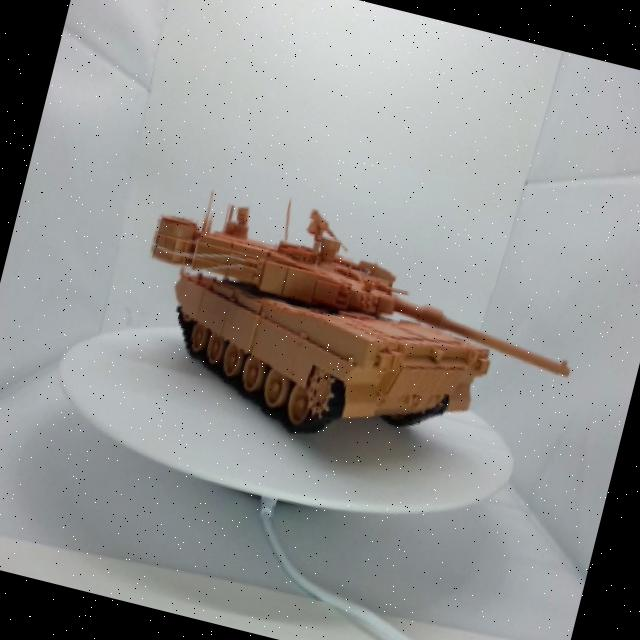korea tank: (99, 153, 620, 509)
